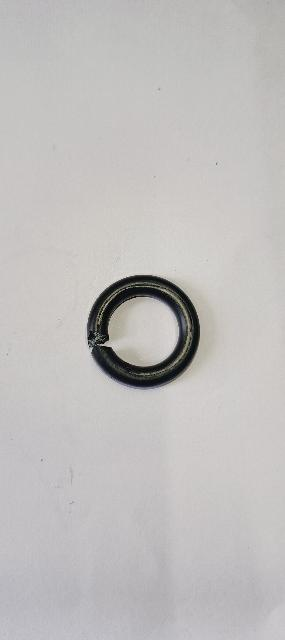crack: (83, 326, 118, 356)
scratch: (95, 282, 196, 379)
